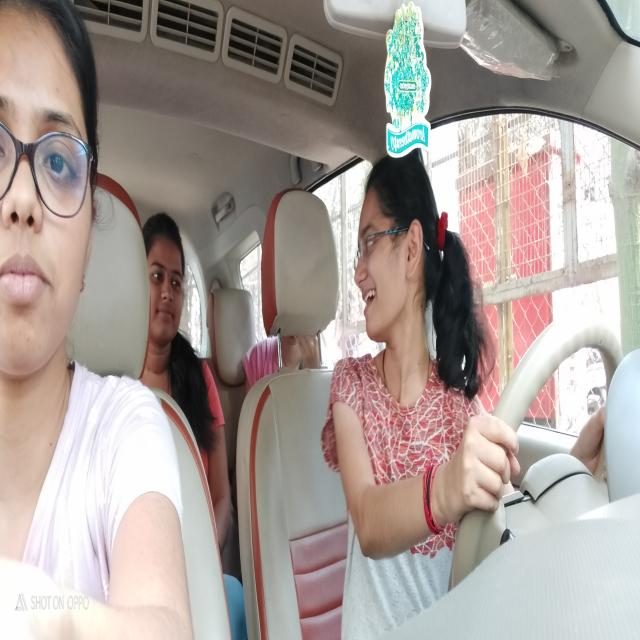LeftRight: (355, 152, 443, 355)
person: (0, 0, 102, 386), (143, 206, 188, 355)
talking: (360, 284, 381, 318)
